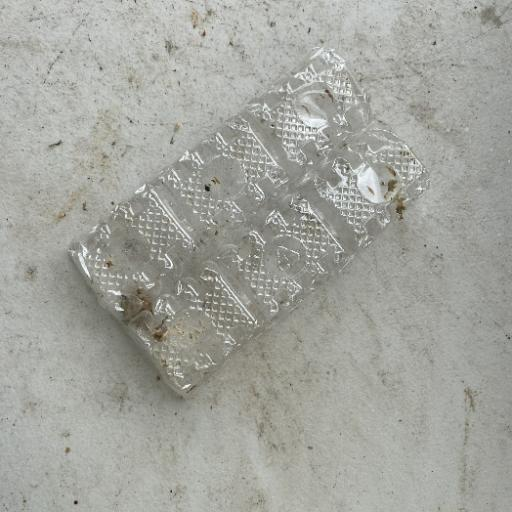Plastic: (65, 45, 429, 399)
